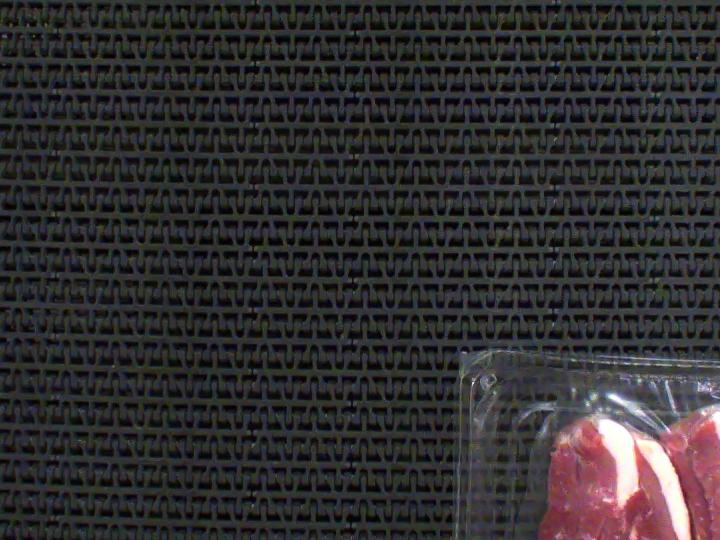unsealed: (510, 353, 720, 540)
